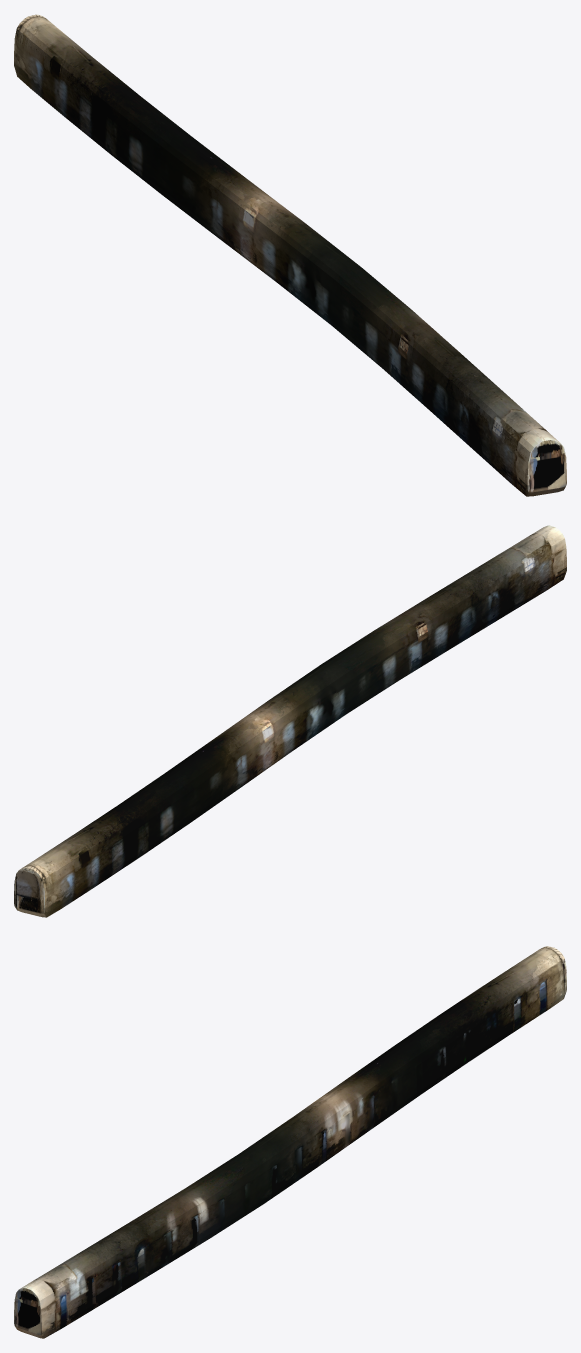
Rendered from gang.gltf.
3 views of the same model, one above another, from view 1: azimuth 30°, elevation 25°; view 2: azimuth 150°, elevation 25°; view 3: azimuth 330°, elevation 25° (orthographic). The views are drawn at different scales.
Parts seen in each view (by area): view 1: Plane.001; view 2: Plane.001; view 3: Plane.001.
Part boxes in pixels (left/top/right/bottom): Plane.001: left=14, top=14, right=566, bottom=496; Plane.001: left=14, top=525, right=566, bottom=917; Plane.001: left=14, top=946, right=566, bottom=1338.
Size of the model in its own units: 3.9 by 2.5 by 44.62.
1 material, 1 textured.
